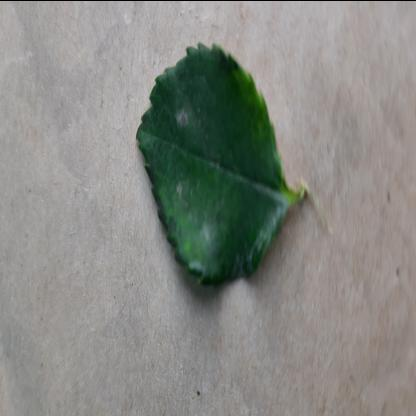powdery-mildew: (137, 38, 291, 290)
